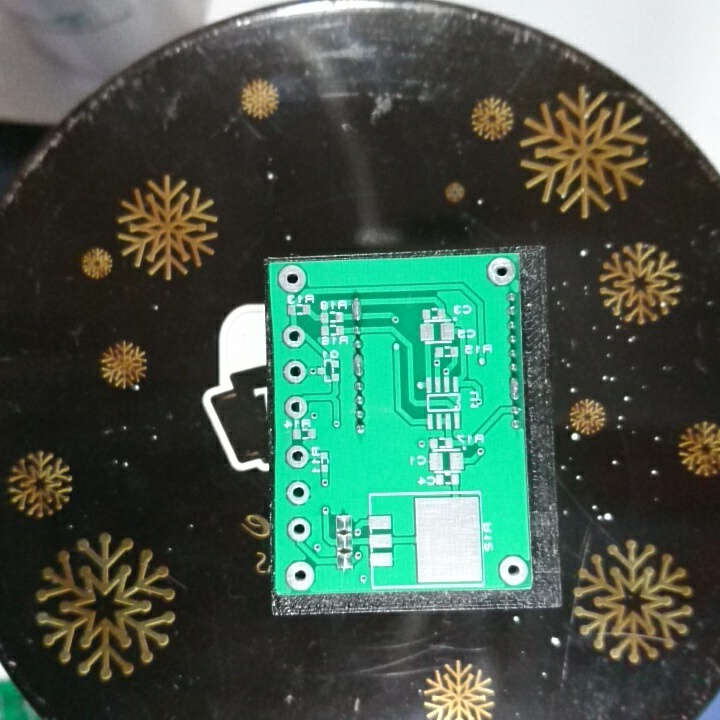F: (283, 559, 317, 594), (497, 552, 530, 587), (485, 256, 517, 287), (276, 264, 309, 294), (284, 515, 314, 543), (283, 442, 311, 471), (284, 478, 312, 507), (282, 394, 311, 421), (280, 323, 306, 351), (280, 359, 308, 384)
P: (348, 294, 364, 323), (507, 375, 521, 404), (351, 352, 366, 378)
